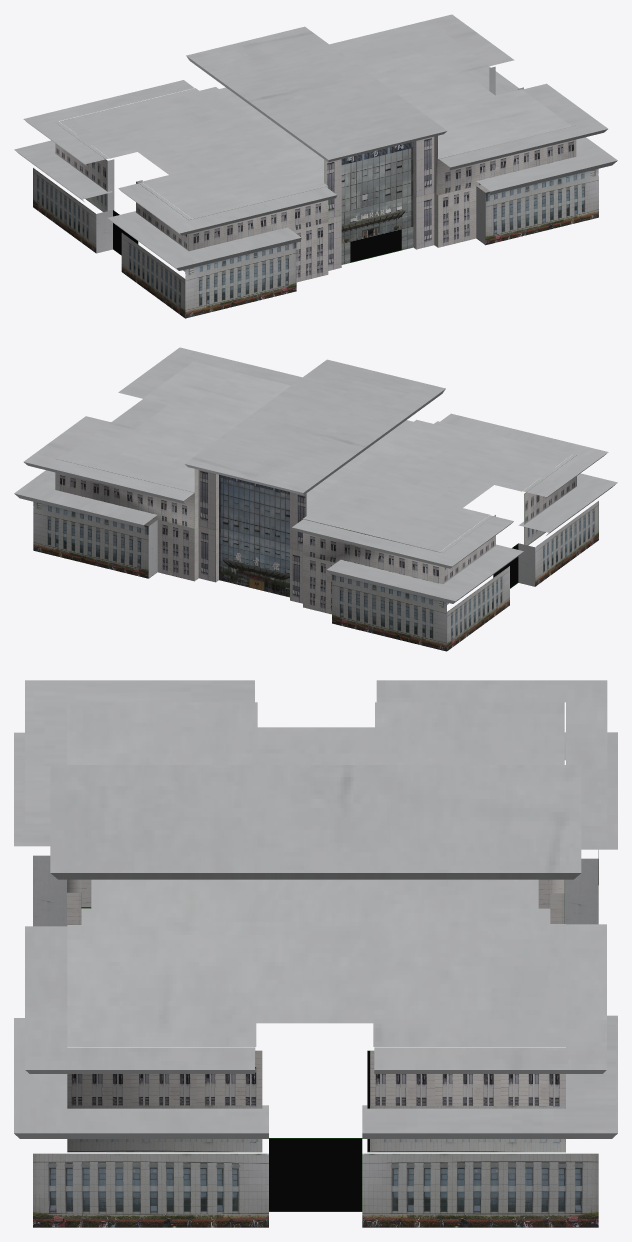
The model's file is library.gltf.
3 renders of one model, top to bottom at view 1: azimuth 30°, elevation 25°; view 2: azimuth 150°, elevation 25°; view 3: azimuth 270°, elevation 25°, orthographic. The views are drawn at different scales.
Visible parts, largest first — view 1: Plane1095, library, library001; view 2: Plane1095, library, library001; view 3: Plane1095, library, library001.
Part boxes in pixels (left/top/right/bottom): Plane1095: left=14, top=14, right=617, bottom=270; library: left=33, top=168, right=598, bottom=318; library001: left=55, top=124, right=576, bottom=271; Plane1095: left=14, top=347, right=617, bottom=603; library: left=33, top=501, right=598, bottom=651; library001: left=55, top=455, right=576, bottom=604; Plane1095: left=14, top=680, right=617, bottom=1138; library: left=33, top=850, right=598, bottom=1227; library001: left=67, top=879, right=565, bottom=1152.
Size of the model in its own units: 326 by 84.02 by 208.
Materials: 3 (3 with a texture image).
